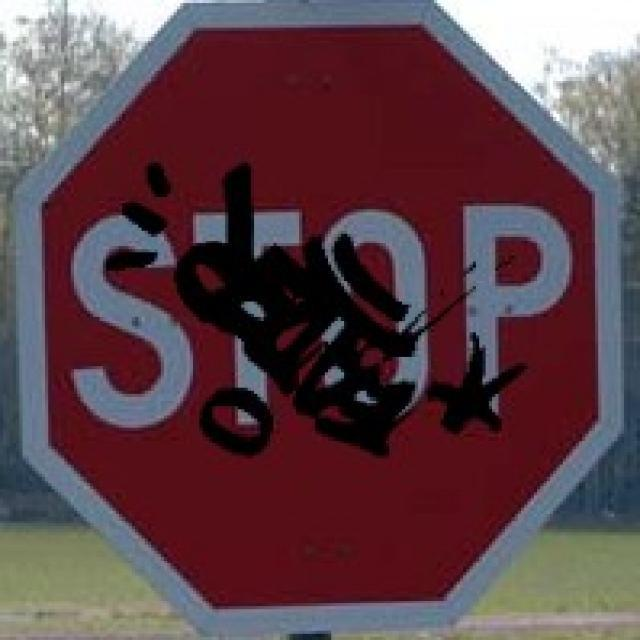Stop-Sign: (37, 33, 582, 592)
